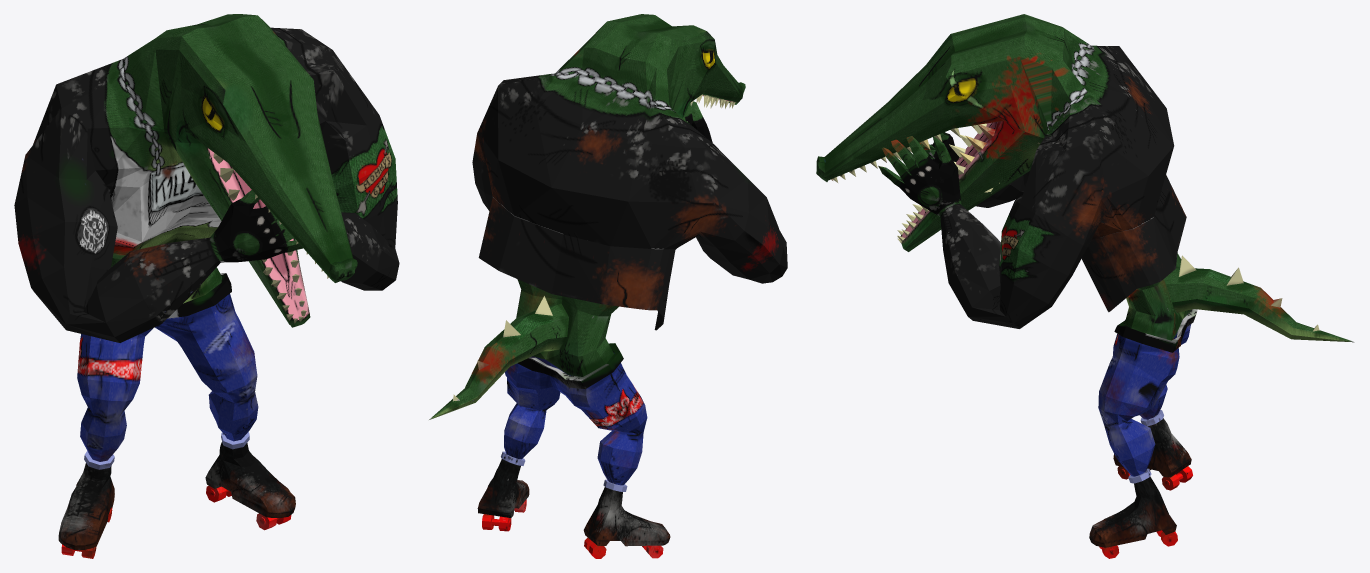
The model's file is cocodrilaBonesSelect_000057.obj.
3 views of the same model, side by side, from view 1: azimuth 30°, elevation 25°; view 2: azimuth 150°, elevation 25°; view 3: azimuth 270°, elevation 25° (orthographic). The views are drawn at different scales.
Visible parts, largest first — view 1: Crocodile.002_Cylinder.002; view 2: Crocodile.002_Cylinder.002; view 3: Crocodile.002_Cylinder.002.
Boxes of the visible parts, <box> form: Crocodile.002_Cylinder.002: <box>14,14,399,558</box>; Crocodile.002_Cylinder.002: <box>429,14,787,558</box>; Crocodile.002_Cylinder.002: <box>816,14,1354,558</box>.
Bounding box in the file's own units: 4.01 × 6.1 × 6.16.
